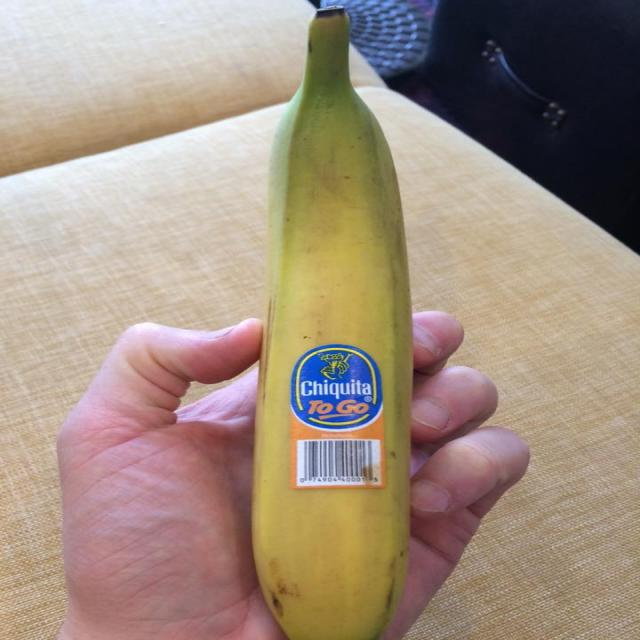Banana: (252, 10, 426, 640)
